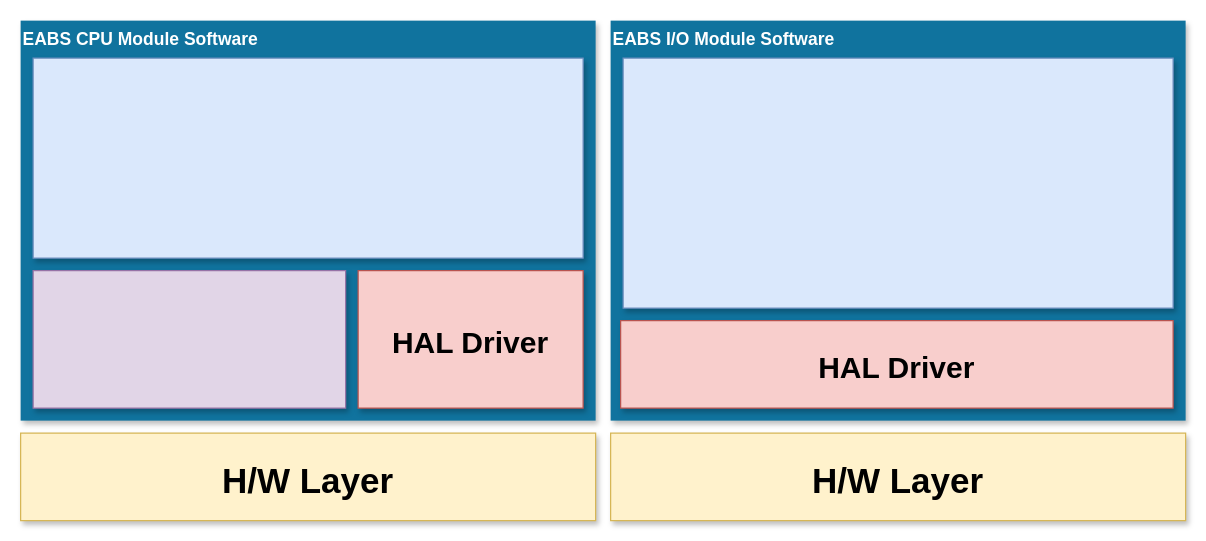
This 1206x541 diagram has some shape labels left out. Here are the shapes that lost their labels. From the top down, the centre of each, then its label:
the point at 309,159: EABS CPU Module Application
the point at 899,184: EABS I/O Module Application
the point at 190,340: SafeRTOS
